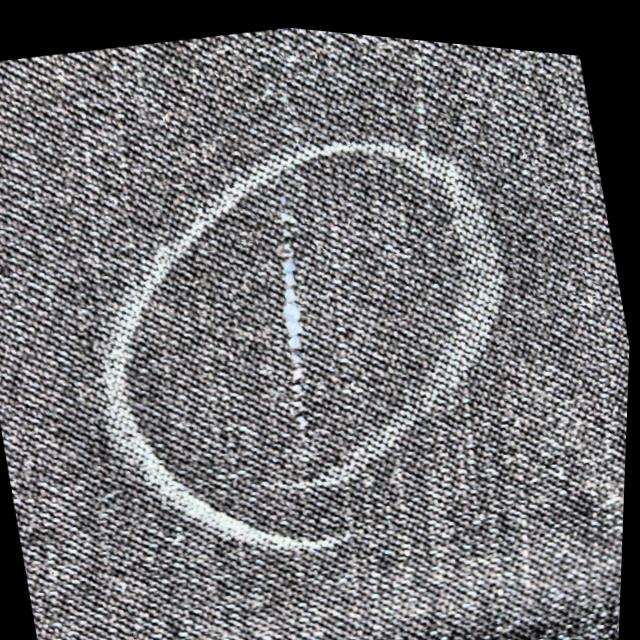Hole: (239, 226, 339, 367)
